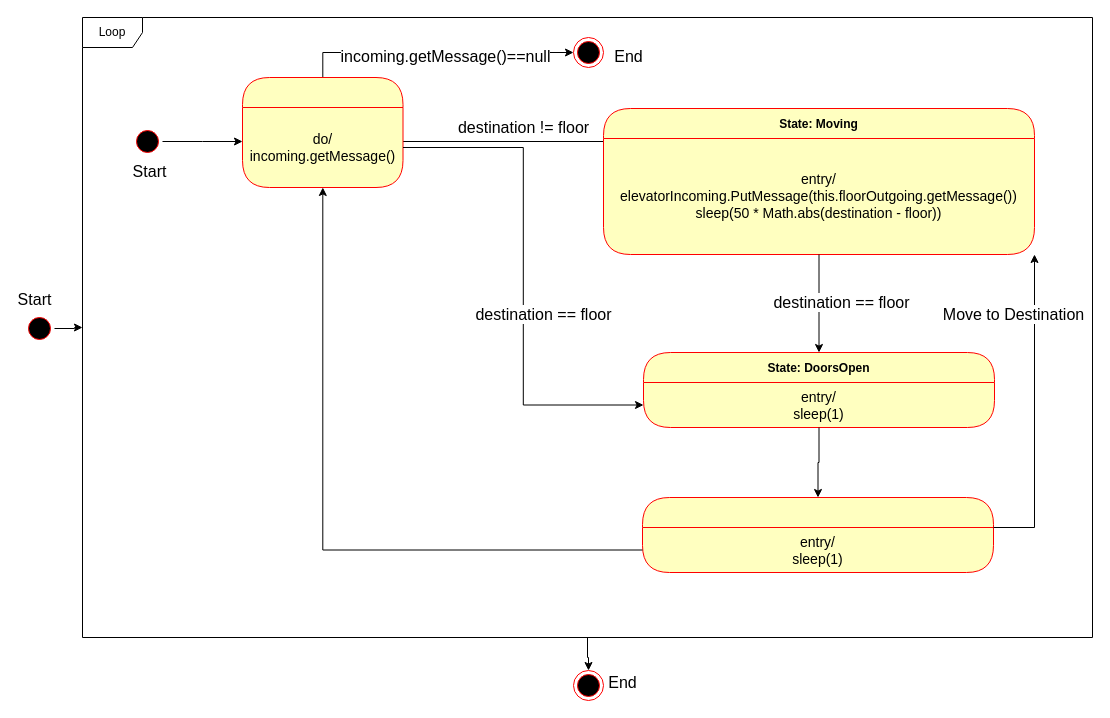
Image size: 1110x718. Some labels were removed from this diagram. Each missing label, with the box of its shape:
State: DoorsClosed: (642, 496, 994, 572)
State: Idle: (242, 76, 403, 188)
